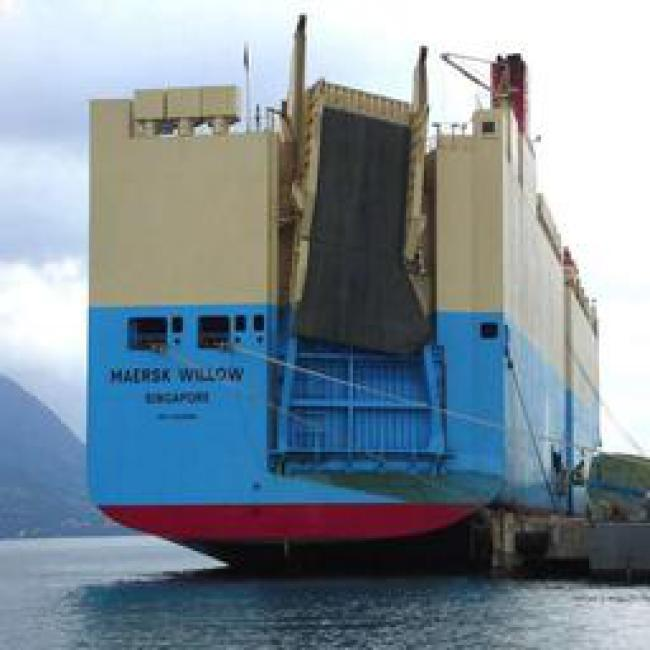Ship: (64, 81, 569, 580)
